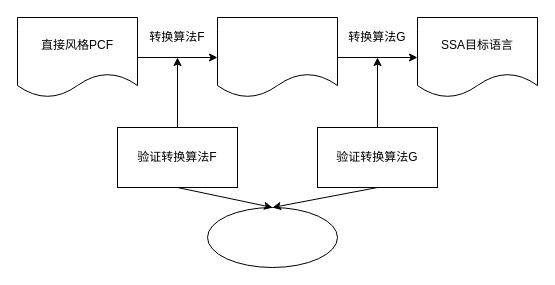
Some shapes in this 555 by 285 pixel diagram are drawn without their labels. The shapes that lost their labels are listed below. From the top down, each one's box as (x1, y1, x2, y2) in pixels, then its label:
(216, 16, 338, 98): CPS形式PCF
(206, 206, 338, 268): 组合验证
